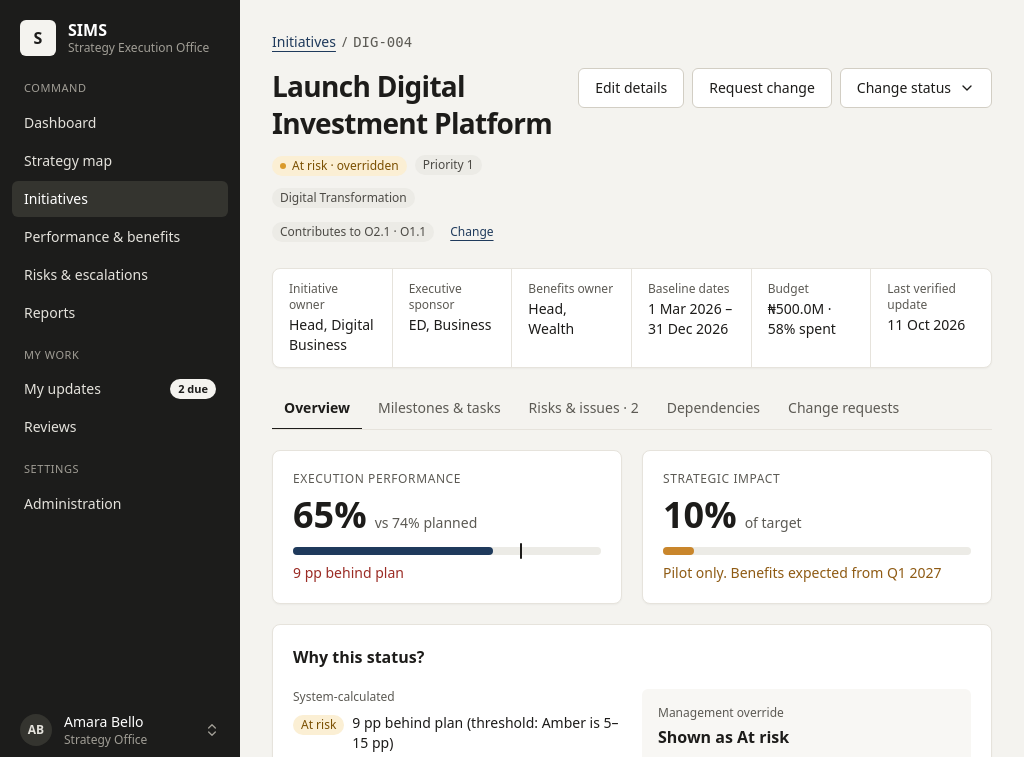
Scenario: Initiative detail › puts an initiative on hold, asking why
Click the button "Change status": (916, 88) [840,68,992,108]
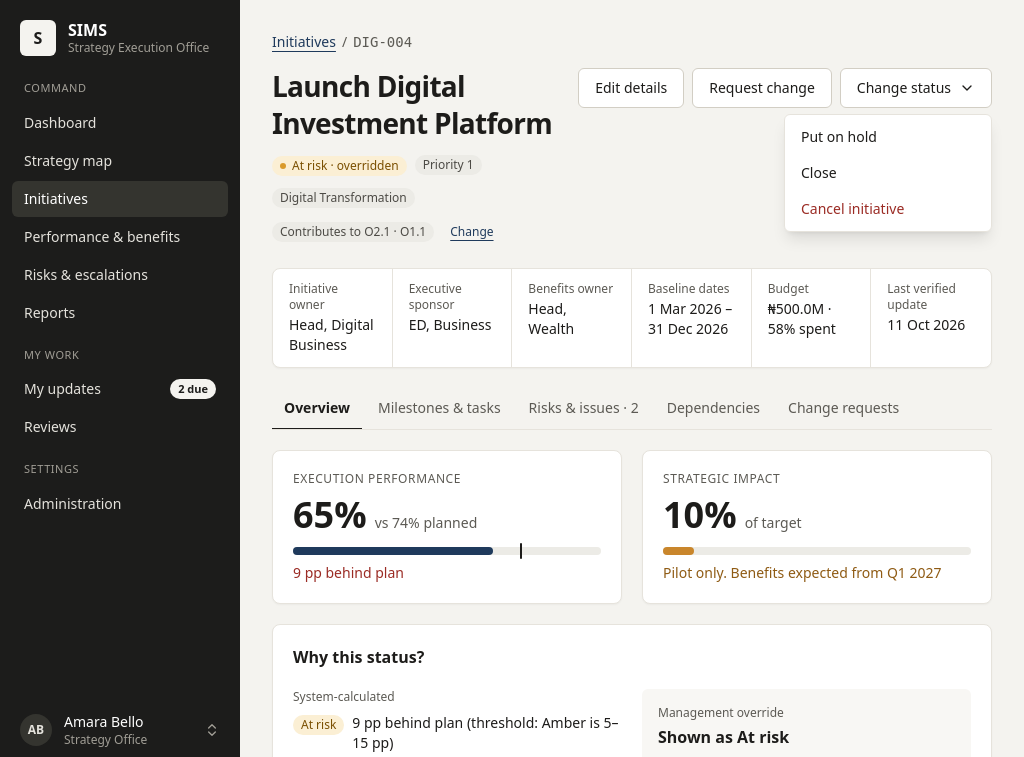
Click the menu item "Put on hold": (839, 136) [801,127,877,146]
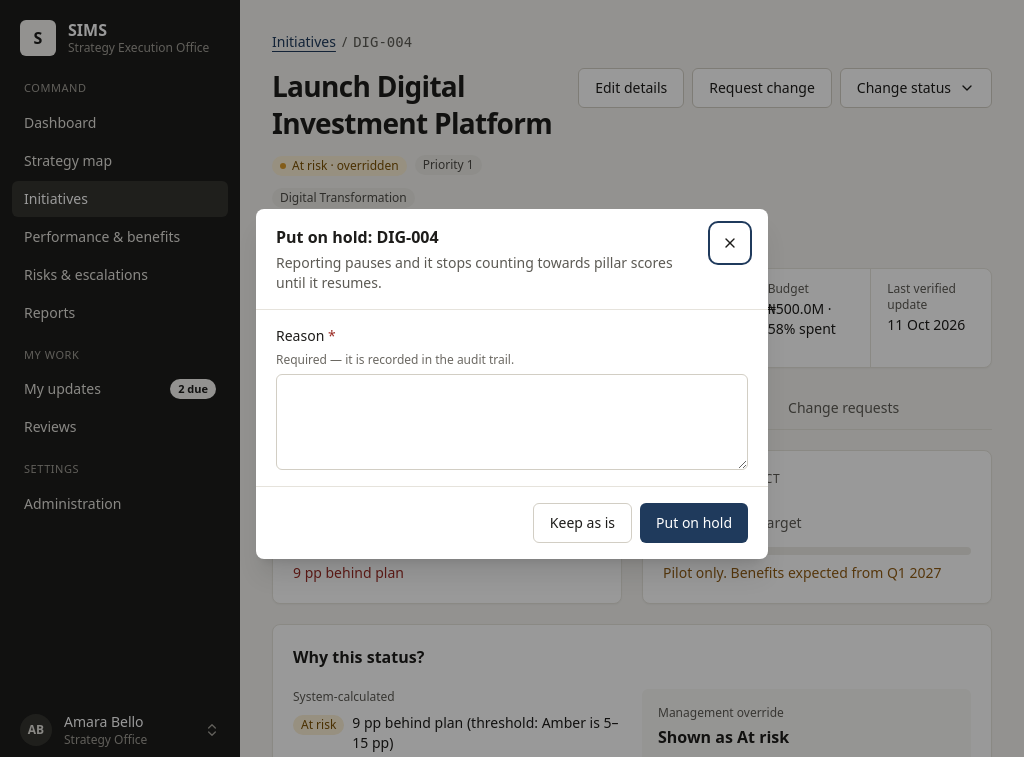
Click the button "Put on hold": (694, 523) [640,503,748,543]
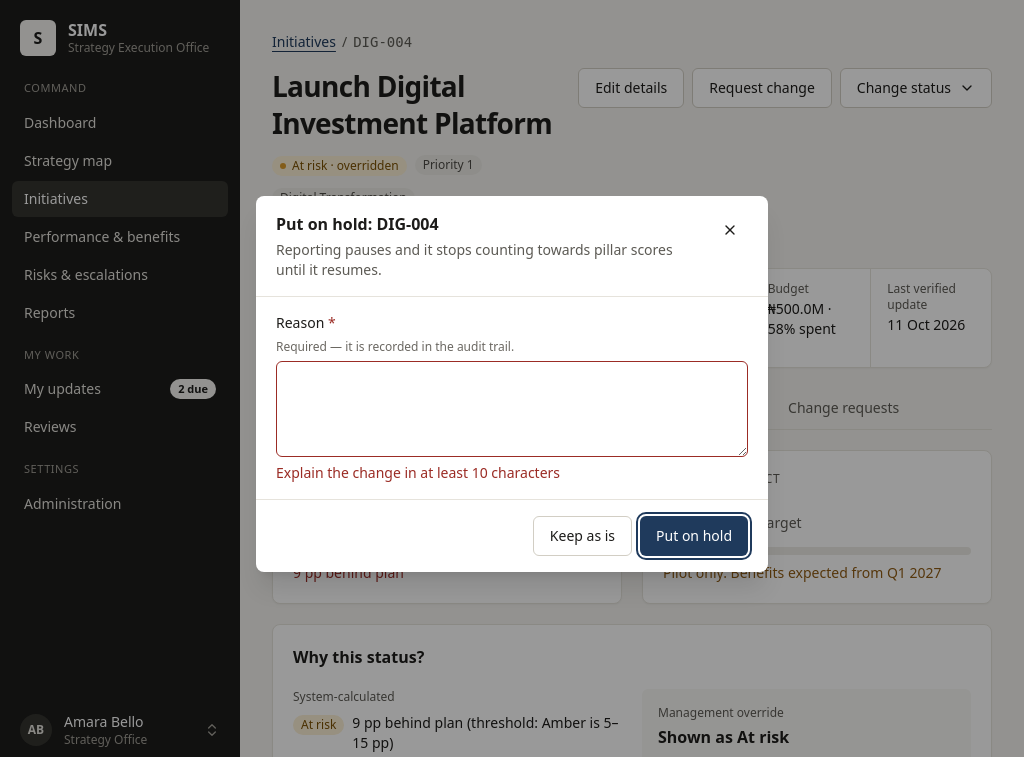
Now the text "Explain the change in at least 10 characters" is shown, box [276,463,560,482]
In the text box labelled "Reason *": (512, 409) [276,361,748,457], type "Vendor re-tender under way"
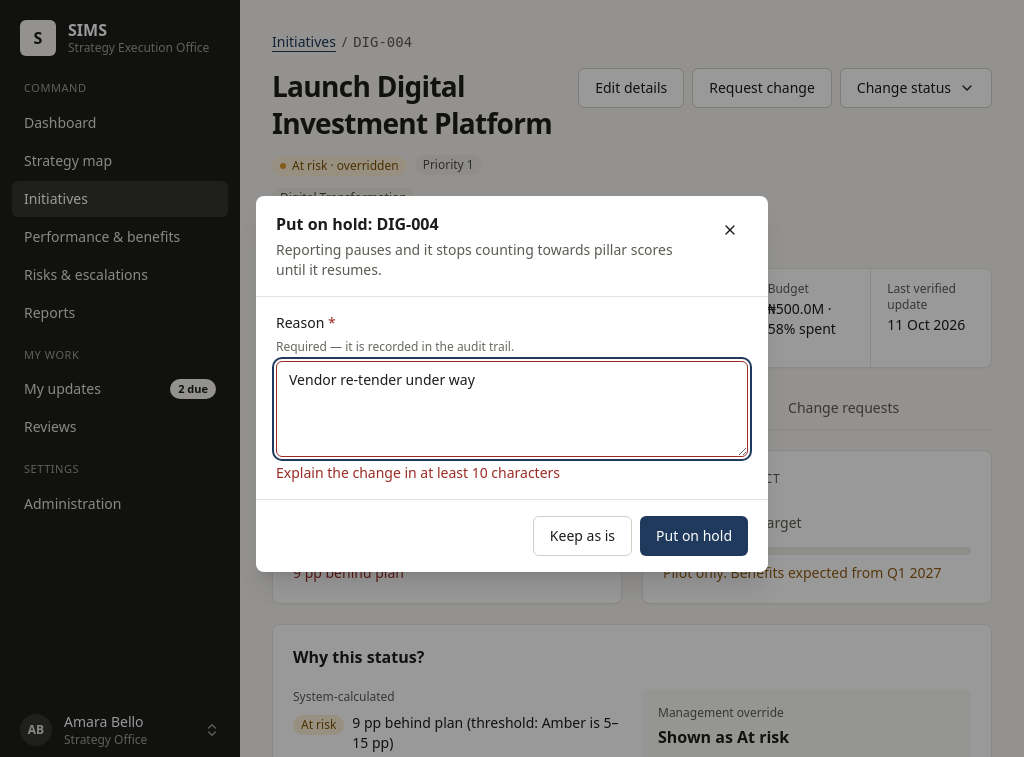
Click the button "Put on hold": (694, 536) [640,516,748,556]
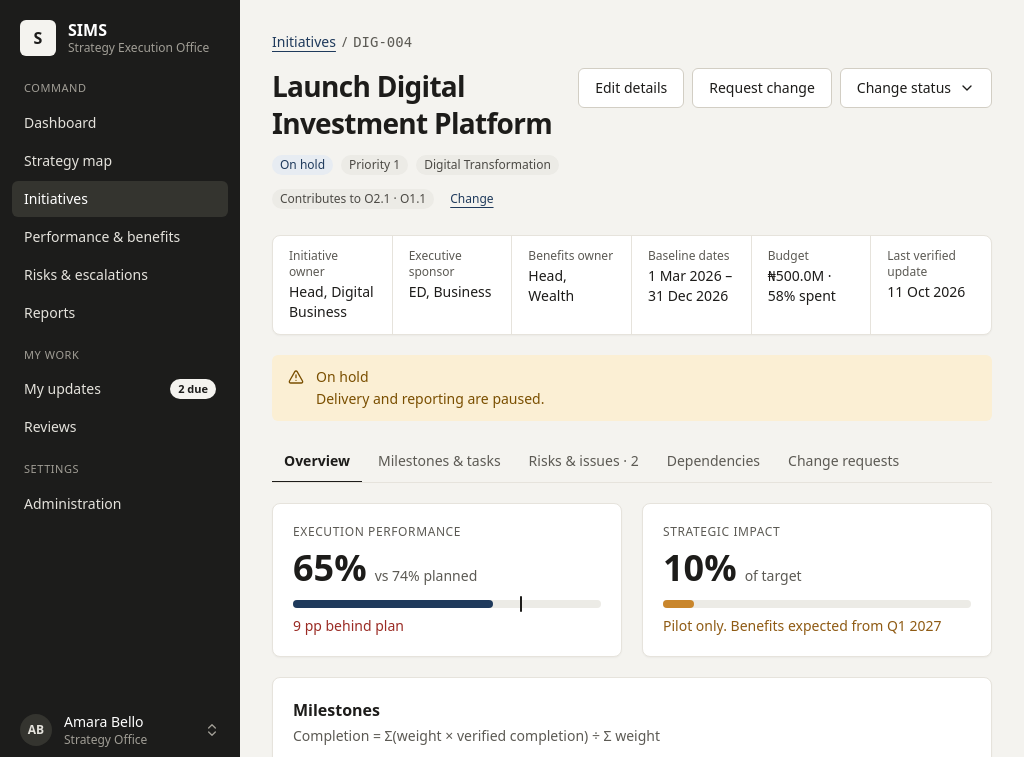
Now the text "Delivery and reporting are paused." is shown, box [316,389,544,409]
Now the dialog is gone
